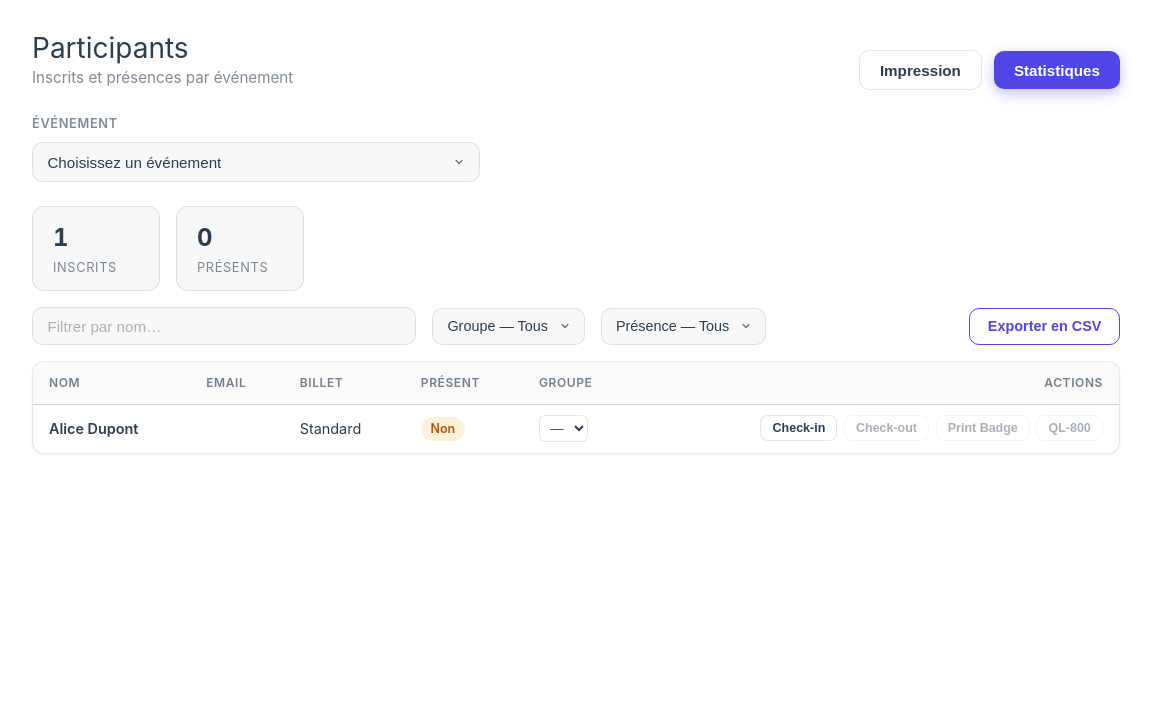
DashboardView › applique la config d’impression partagée chargée depuis le serveur
This screenshot has width=1152, height=720.
Click the button "Impression".
click(920, 70)  # box [859,50,982,90]
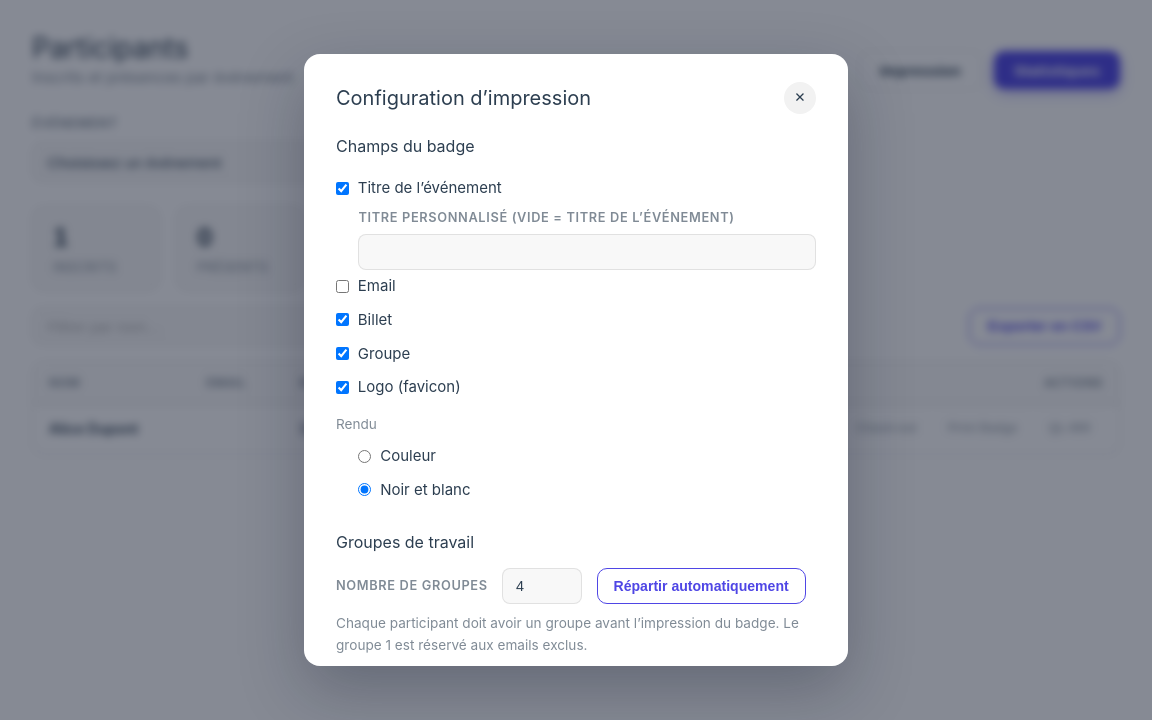
Expected: the checkbox labelled "Email" is not checked, [336,280,349,293]
